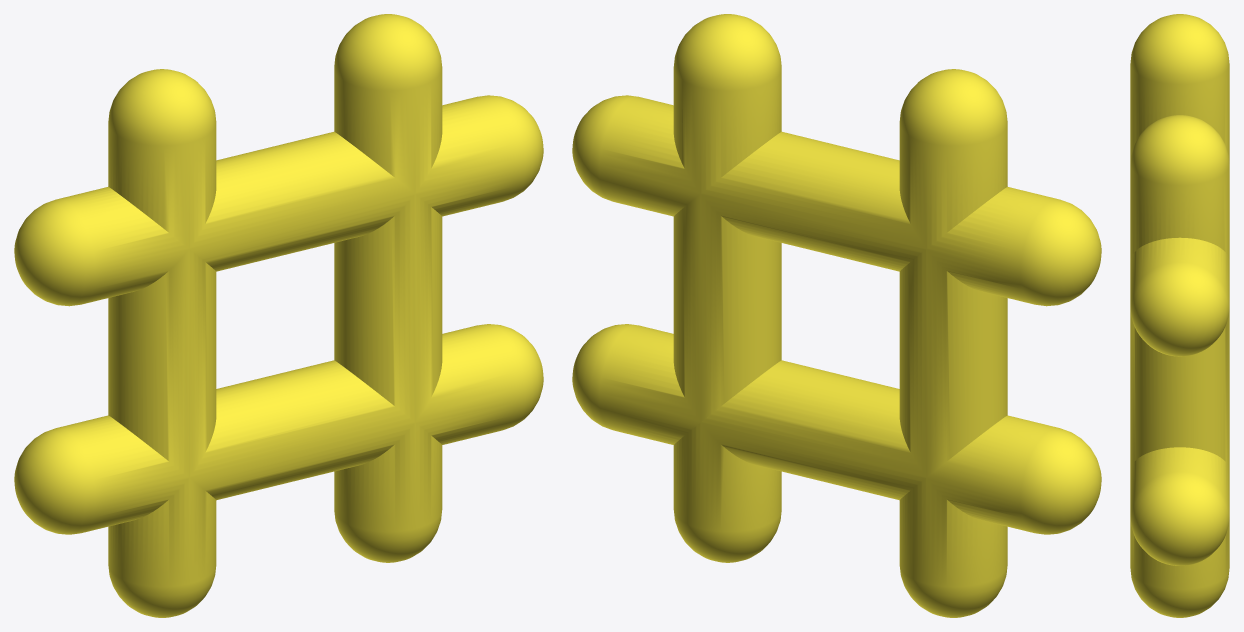
The model's file is waffle.gltf.
The picture shows the model from 3 angles, left to right: view 1: azimuth 30°, elevation 25°; view 2: azimuth 150°, elevation 25°; view 3: azimuth 270°, elevation 25°; orthographic projection. The views are drawn at different scales.
Visible parts, largest first — view 1: waffle; view 2: waffle; view 3: waffle.
Part boxes in pixels (x1=…): waffle: x1=14, y1=14, x2=543, y2=617; waffle: x1=572, y1=14, x2=1101, y2=617; waffle: x1=1130, y1=14, x2=1229, y2=617.
Size of the model in its own units: 0.66 by 0.66 by 0.12.
